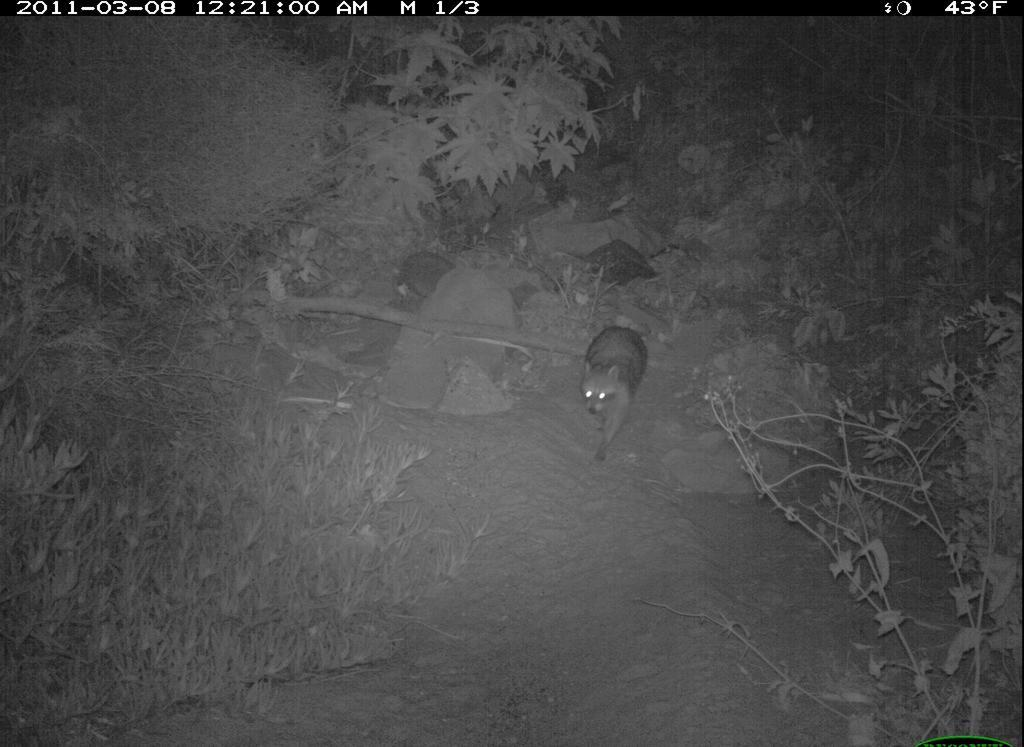raccoon: (574, 322, 651, 469)
